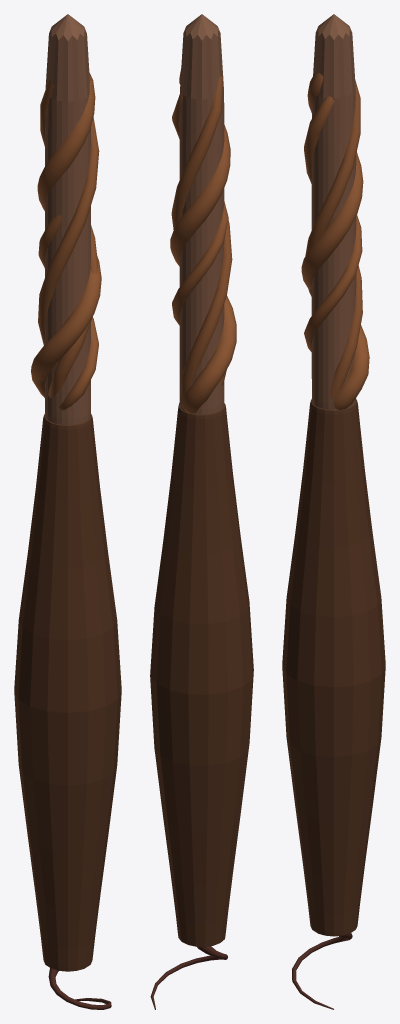
File: Wand 179.glb
3 views of the same model, side by side, from view 1: azimuth 90°, elevation 25°; view 2: azimuth 210°, elevation 25°; view 3: azimuth 270°, elevation 25° (orthographic). The views are drawn at different scales.
Visible parts, largest first — view 1: GeneratedWand; view 2: GeneratedWand; view 3: GeneratedWand.
Part boxes in pixels (box(x1,y1,x2,y2)): GeneratedWand: box(14, 14, 121, 1009); GeneratedWand: box(150, 14, 253, 1009); GeneratedWand: box(282, 14, 385, 1009).
Bounding box in the file's own units: 0.0507 × 0.5166 × 0.0499.
